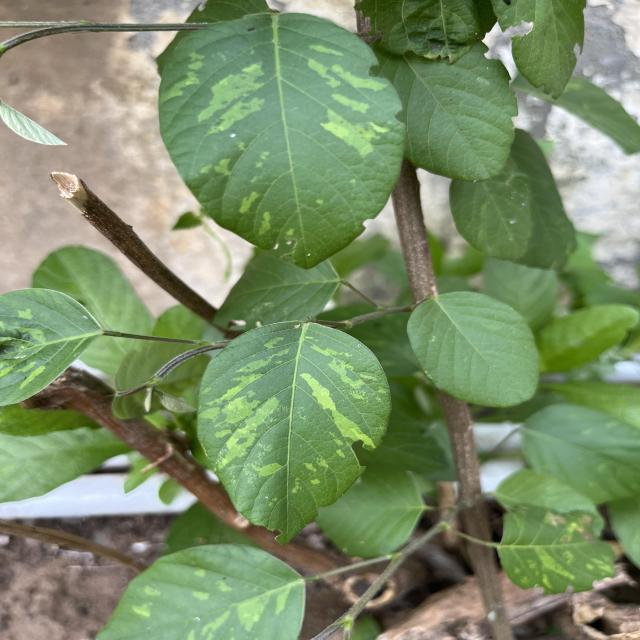Desmodium gangeticum: (156, 9, 412, 272), (193, 318, 394, 549)
